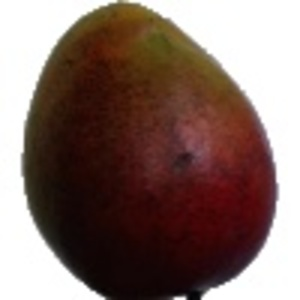manga: (23, 1, 280, 300)
